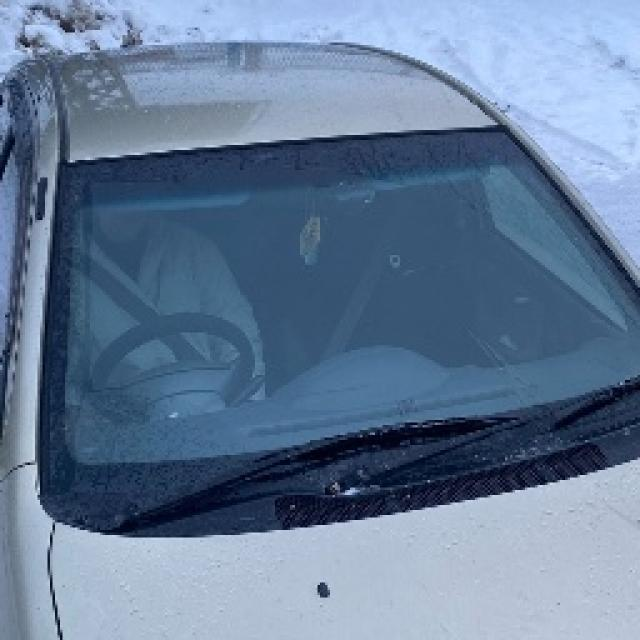windshield: (31, 131, 623, 456)
